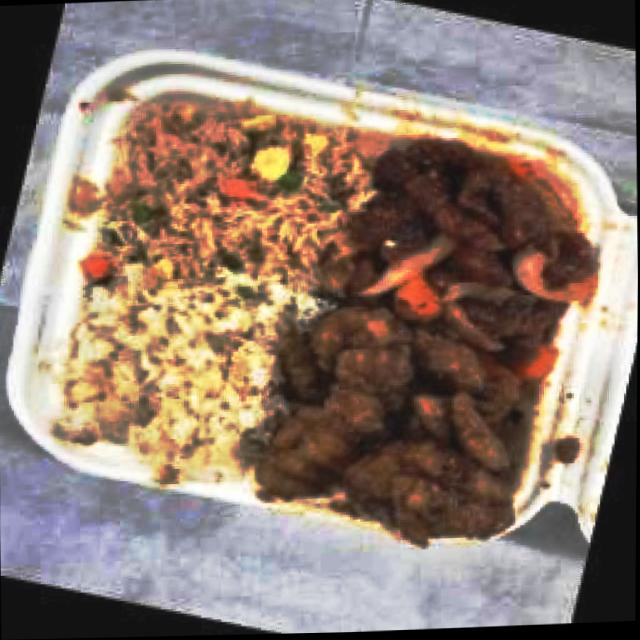Beijing Beef: (372, 135, 570, 288)
Fried Rice: (116, 100, 343, 284)
Kung Pao Chicken: (307, 285, 552, 536)
rice: (79, 282, 283, 459)
